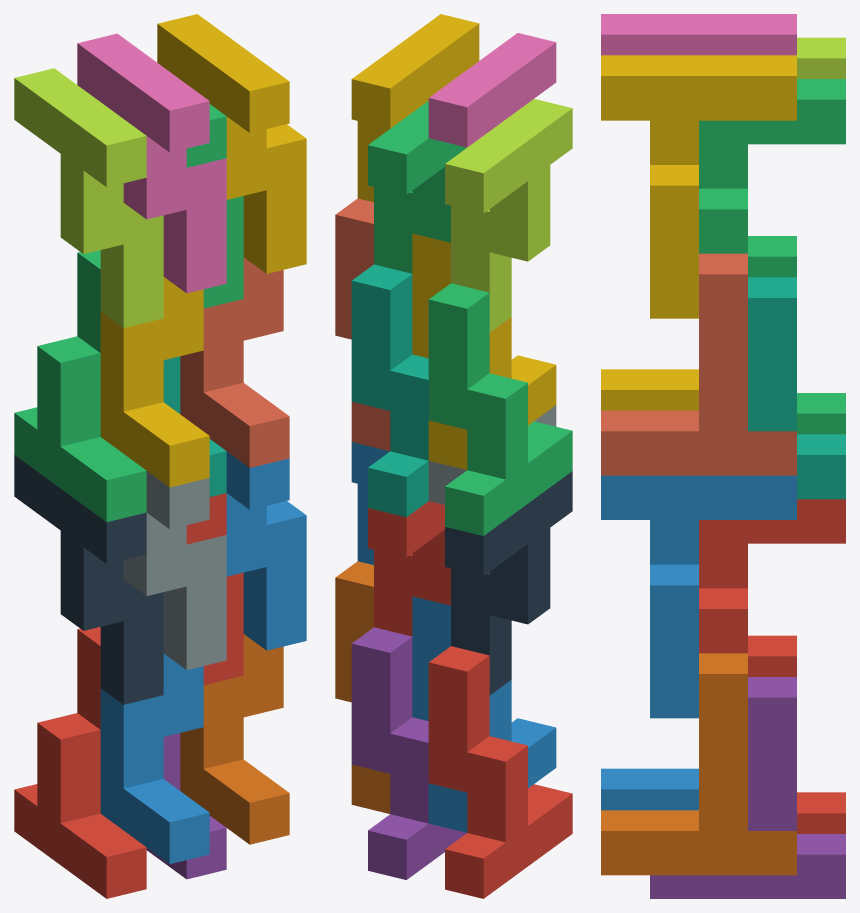
Rendered from tiling.obj.
3 renders of one model, left to right at view 1: azimuth 30°, elevation 25°; view 2: azimuth 150°, elevation 25°; view 3: azimuth 270°, elevation 25°, orthographic. The views are drawn at different scales.
Visible parts, largest first — view 1: copy_2_domain_3, copy_2_domain_4, copy_2_domain_8, copy_2_domain_1, copy_1_domain_1, copy_1_domain_3, copy_1_domain_2, copy_1_domain_4, copy_1_domain_6, copy_1_domain_8, copy_2_domain_2, copy_2_domain_6 (+4 smaller); view 2: copy_1_domain_3, copy_1_domain_1, copy_2_domain_3, copy_1_domain_5, copy_1_domain_7, copy_2_domain_1, copy_2_domain_7, copy_2_domain_8, copy_2_domain_4, copy_2_domain_5, copy_1_domain_2, copy_1_domain_4 (+4 smaller); view 3: copy_2_domain_8, copy_1_domain_6, copy_1_domain_8, copy_2_domain_6, copy_1_domain_5, copy_2_domain_7, copy_1_domain_7, copy_2_domain_5, copy_2_domain_4, copy_1_domain_2, copy_1_domain_1, copy_1_domain_3 (+2 smaller).
Part boxes in pixels (x1,y1,x2,y2): copy_2_domain_3: [14, 68, 163, 327]; copy_2_domain_4: [77, 33, 226, 293]; copy_2_domain_8: [157, 14, 306, 273]; copy_2_domain_1: [14, 455, 163, 704]; copy_1_domain_1: [14, 627, 146, 898]; copy_1_domain_3: [14, 250, 146, 521]; copy_1_domain_2: [100, 653, 209, 863]; copy_1_domain_4: [100, 277, 209, 487]; copy_1_domain_6: [180, 634, 289, 844]; copy_1_domain_8: [180, 257, 289, 467]; copy_2_domain_2: [123, 471, 226, 669]; copy_2_domain_6: [226, 451, 306, 650]; copy_1_domain_3: [428, 283, 572, 535]; copy_1_domain_1: [428, 646, 572, 898]; copy_2_domain_3: [445, 99, 572, 332]; copy_1_domain_5: [351, 627, 466, 879]; copy_1_domain_7: [351, 264, 428, 517]; copy_2_domain_1: [445, 471, 572, 695]; copy_2_domain_7: [368, 101, 466, 273]; copy_2_domain_8: [351, 14, 479, 202]; copy_2_domain_4: [428, 33, 556, 147]; copy_2_domain_5: [368, 501, 450, 636]; copy_1_domain_2: [412, 596, 556, 832]; copy_1_domain_4: [412, 233, 556, 469]; copy_2_domain_8: [601, 55, 796, 318]; copy_1_domain_6: [601, 653, 796, 875]; copy_1_domain_8: [601, 253, 796, 475]; copy_2_domain_6: [601, 475, 796, 718]; copy_1_domain_5: [650, 677, 845, 898]; copy_2_domain_7: [699, 79, 845, 253]; copy_1_domain_7: [748, 277, 845, 499]; copy_2_domain_5: [699, 499, 845, 653]; copy_2_domain_4: [601, 14, 796, 55]; copy_1_domain_2: [601, 768, 698, 810]; copy_1_domain_1: [748, 635, 845, 833]; copy_1_domain_3: [748, 236, 845, 434].
Bounding box in the file's own units: 5 × 19 × 5.
